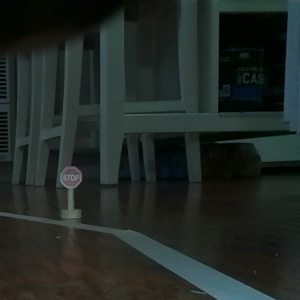stop sign: (57, 164, 85, 221)
